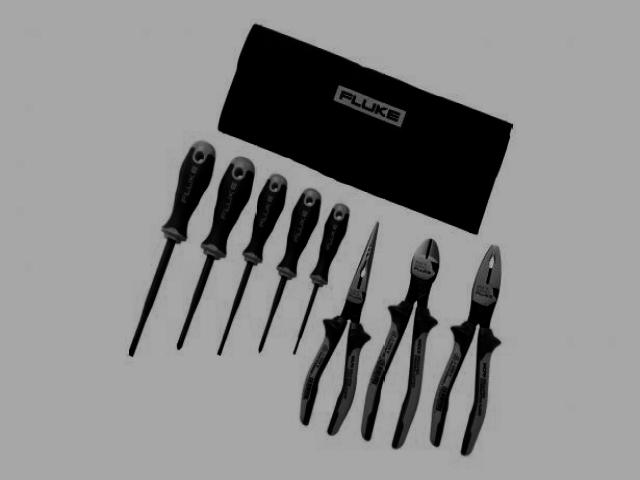Cutting pliers: (361, 239, 440, 448)
Needle-nose pliers: (300, 224, 378, 435)
Pliers: (430, 245, 501, 455)
Screwdriver: (129, 142, 215, 356), (179, 158, 255, 349), (218, 174, 286, 355), (259, 188, 321, 351), (295, 204, 349, 354)
